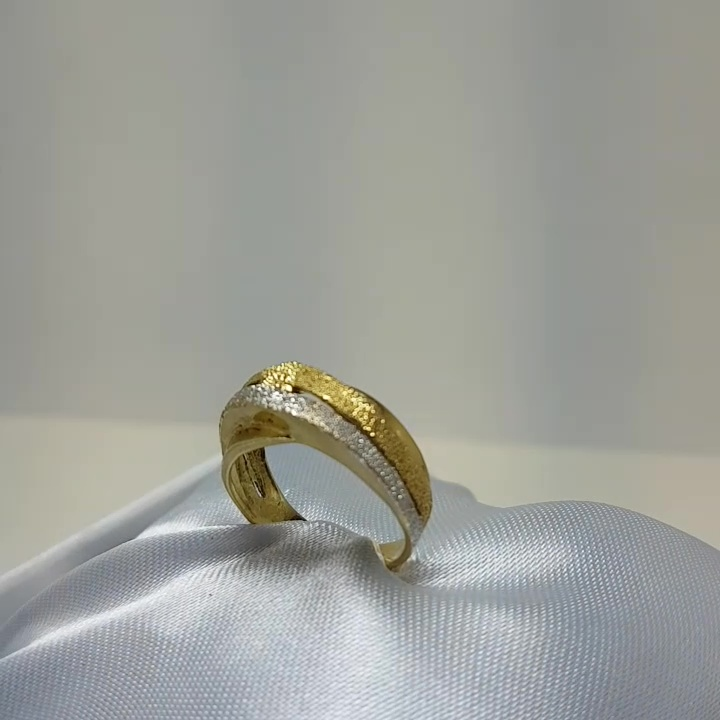Ring 5: (192, 355, 447, 580)
